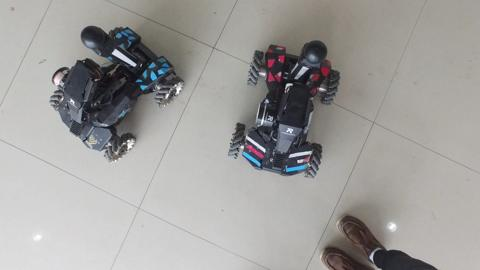chariot: (39, 21, 190, 166), (224, 32, 342, 188)
